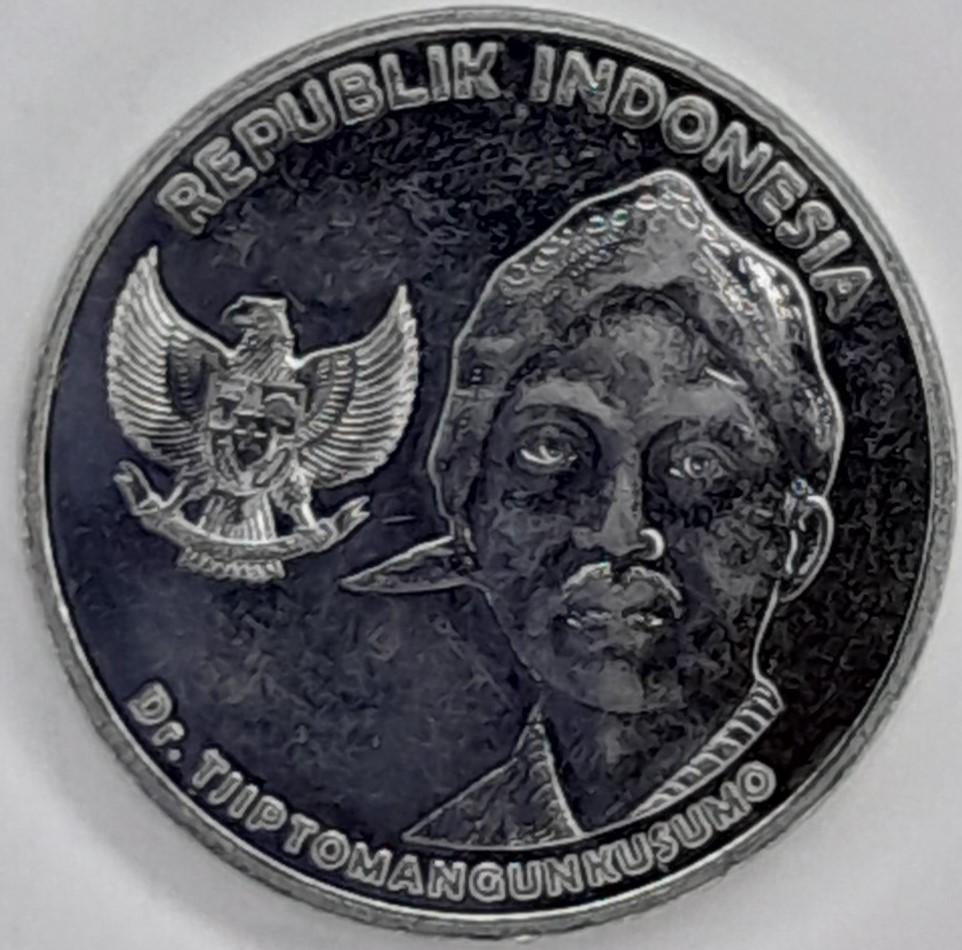coin_200_e2016: (0, 16, 962, 950)
